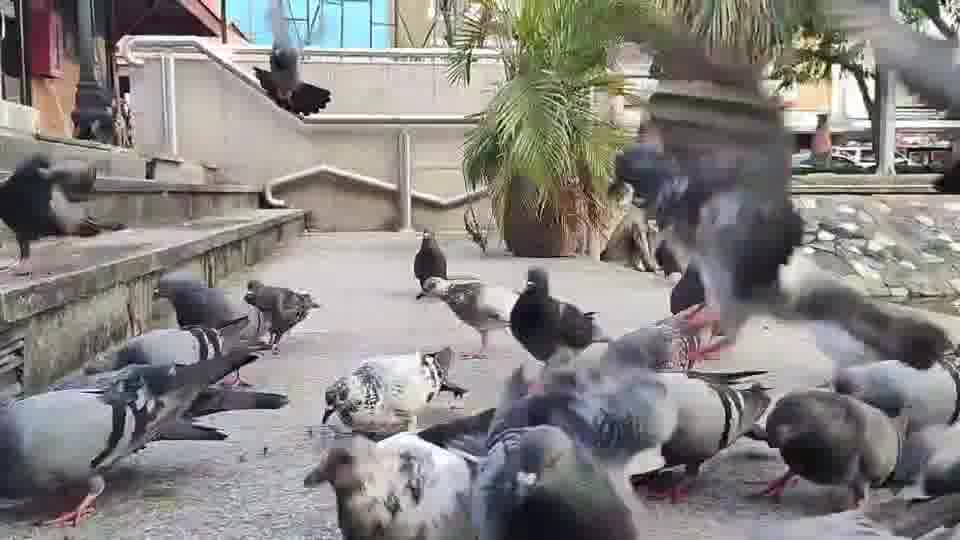Pigeon: (34, 339, 290, 527), (320, 345, 469, 437), (0, 152, 100, 275), (507, 265, 602, 366), (415, 274, 510, 359), (251, 44, 331, 119), (412, 227, 448, 300)
